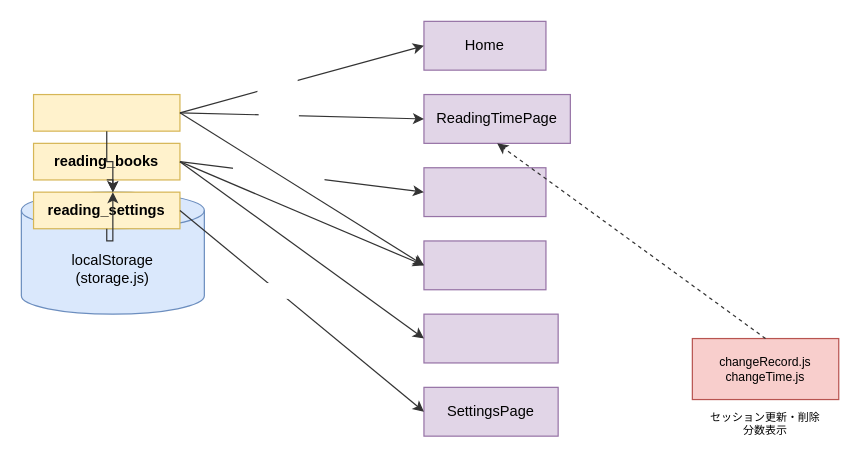
The diagram is 860 pixels wide and 464 high, and some of its shapes have lost their labels. Here are the shapes that lost their labels. From the top down, the centre of each, then its label:
the point at 106,112: reading_sessions
the point at 484,192: LibraryPage
the point at 484,265: StatsPage
the point at 490,338: CompletedPage
